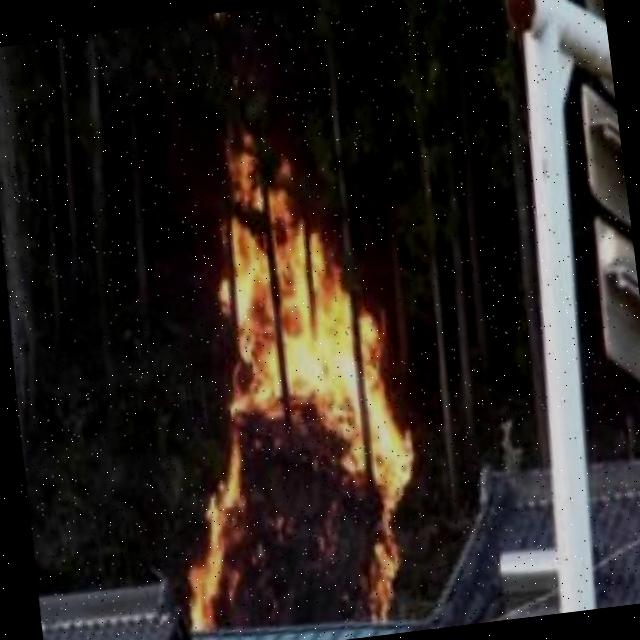fire: (127, 131, 438, 640)
